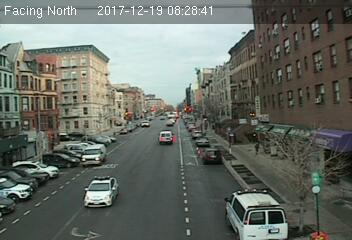car: (200, 146, 220, 162), (194, 137, 209, 145)
police: (225, 186, 292, 240), (81, 174, 121, 209)
truck: (81, 145, 107, 165), (159, 131, 172, 143)
